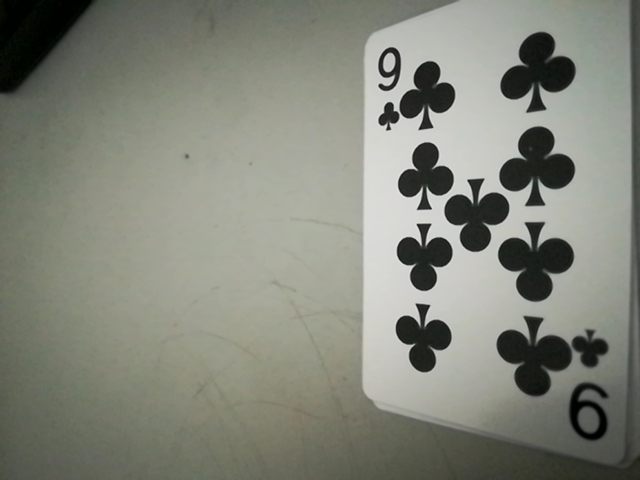mh 9: (547, 332, 622, 453), (367, 35, 412, 126)
